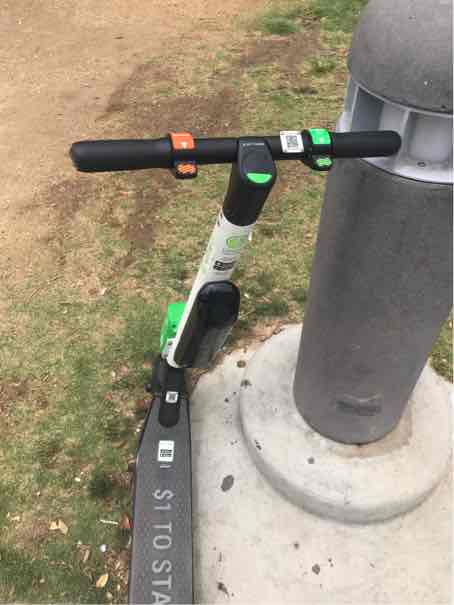scooter: (61, 103, 421, 605)
